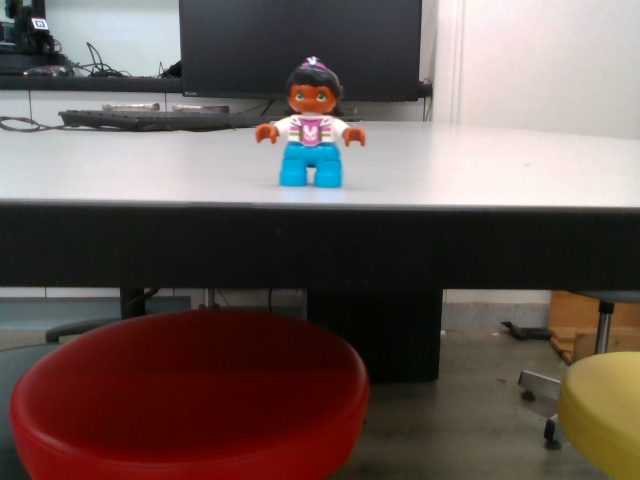people: (256, 55, 370, 191)
